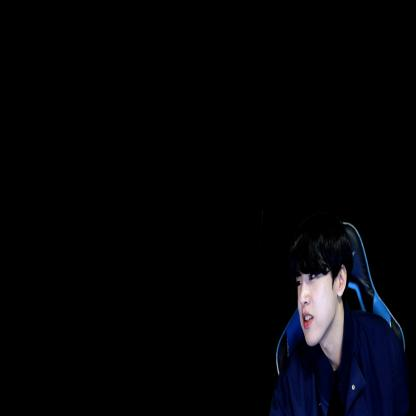streamer: (270, 213, 410, 416)
